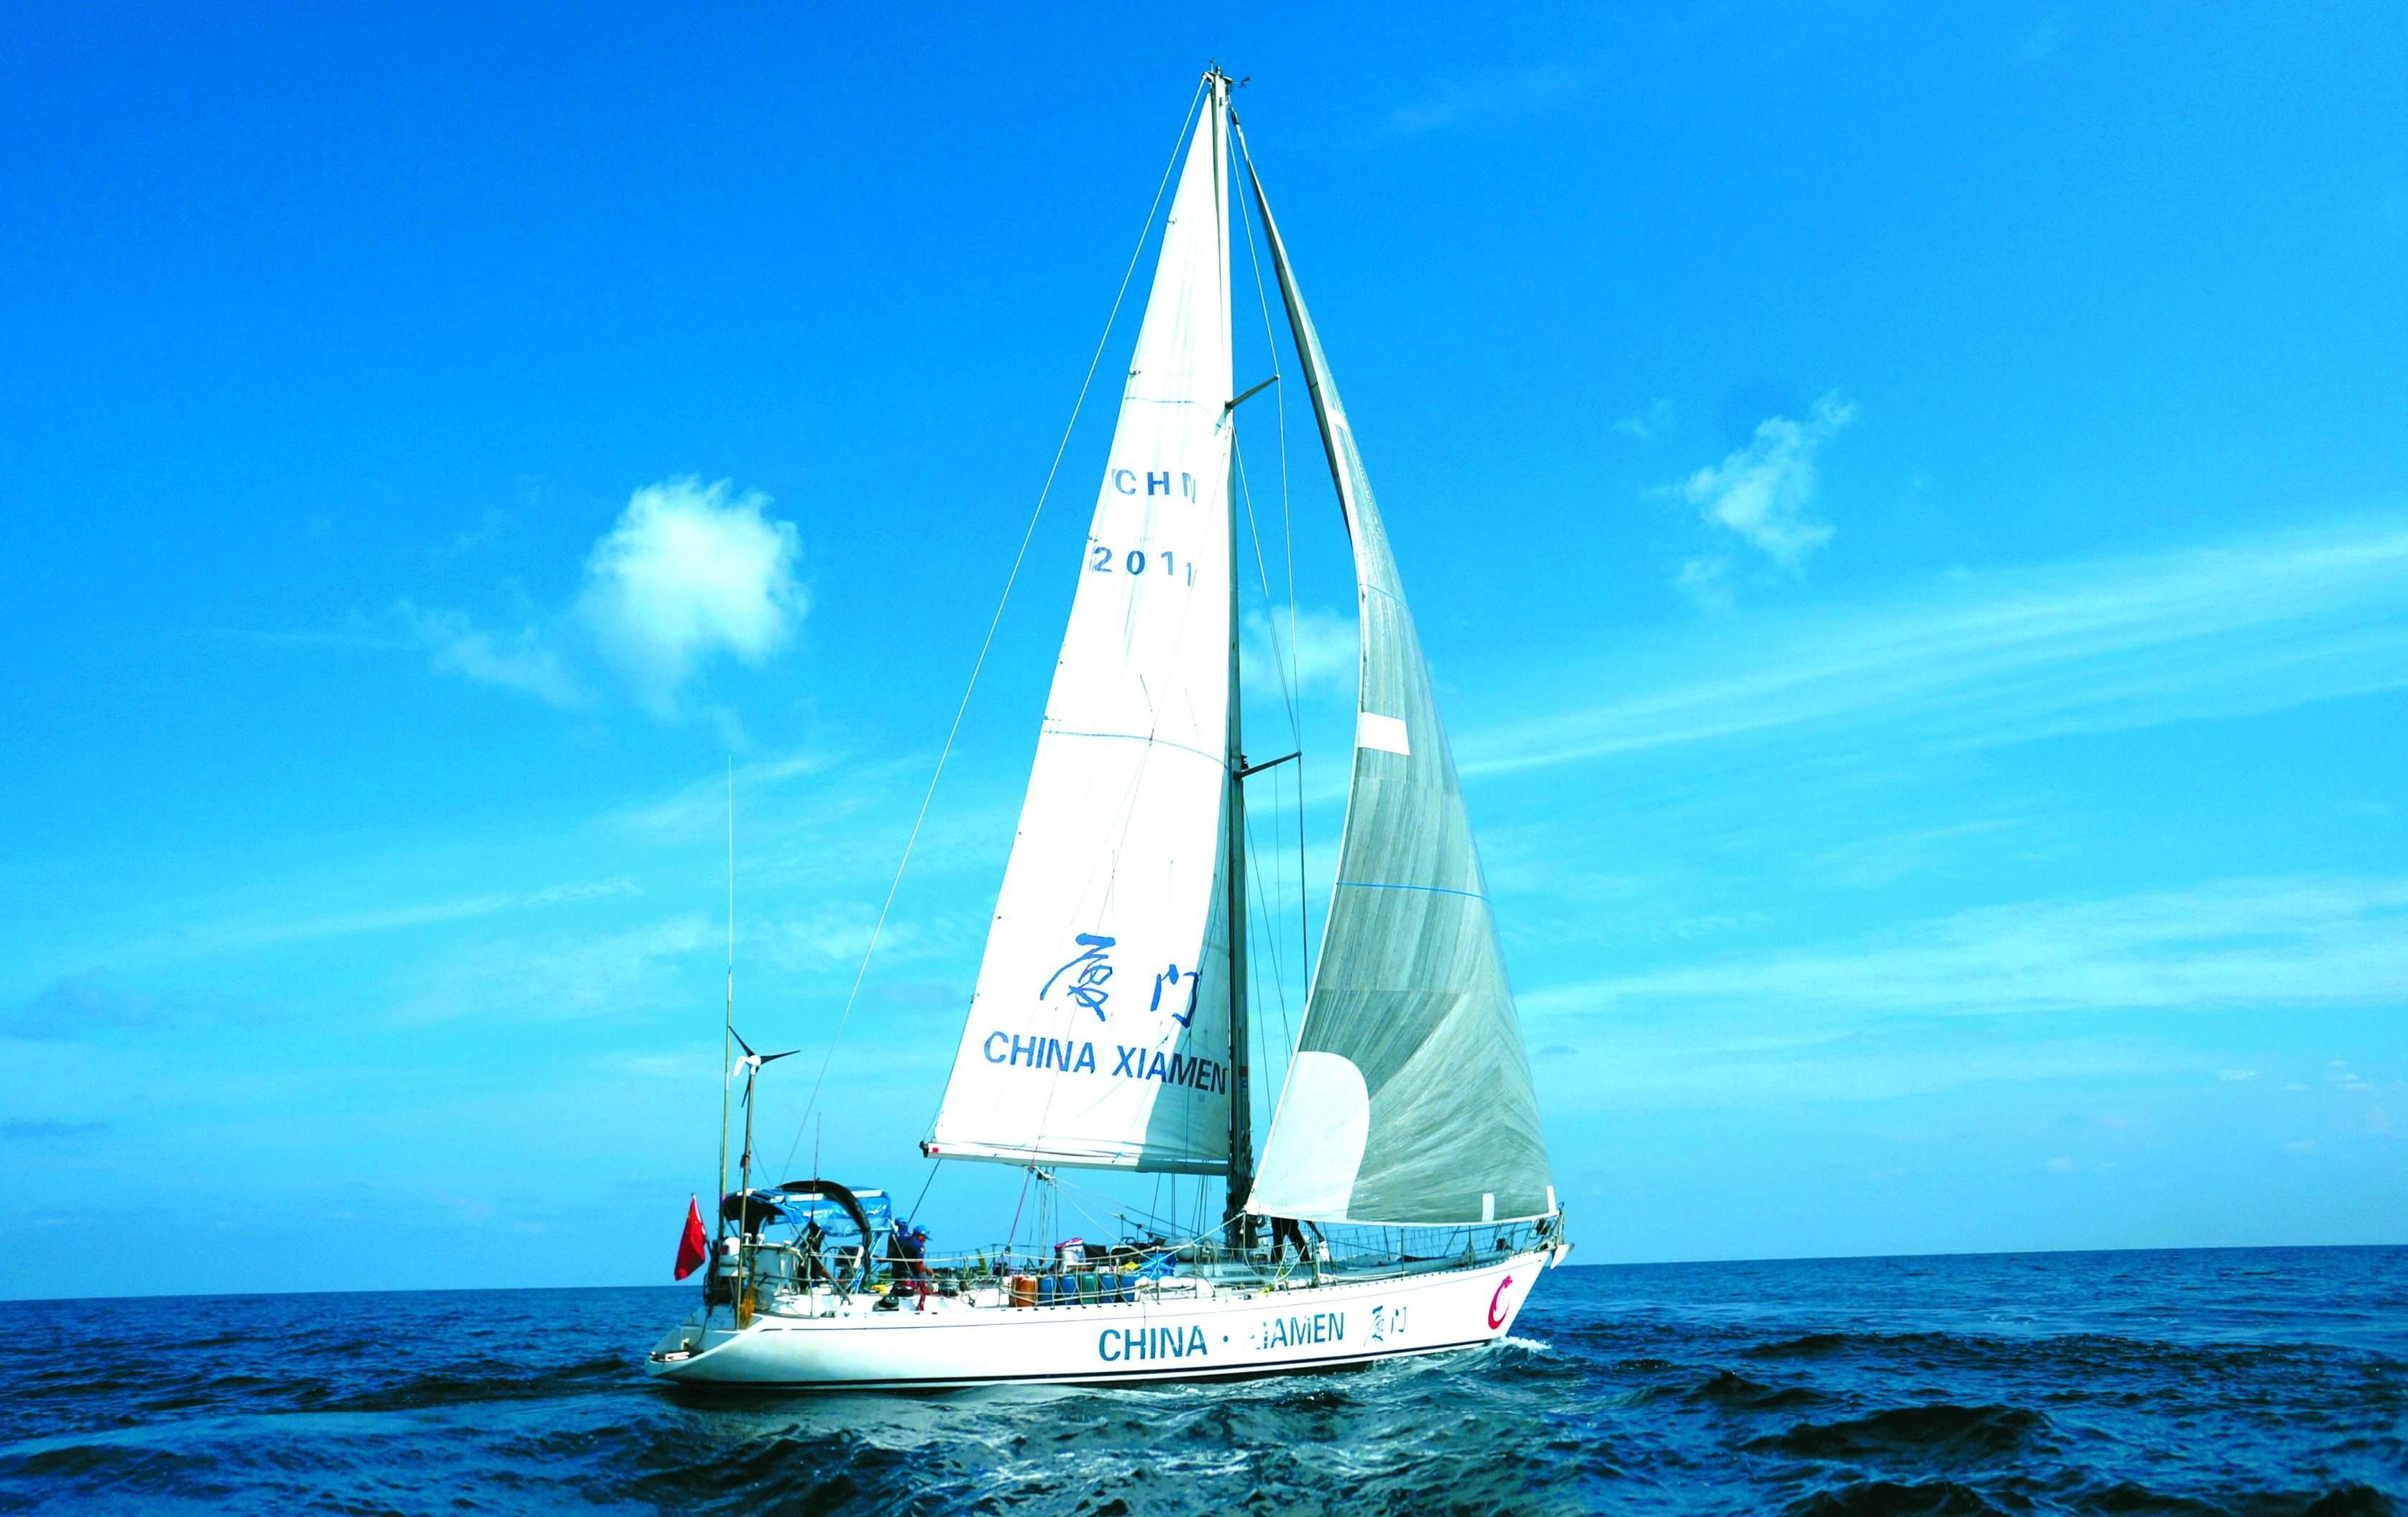fanchuan: (657, 59, 1580, 1395)
